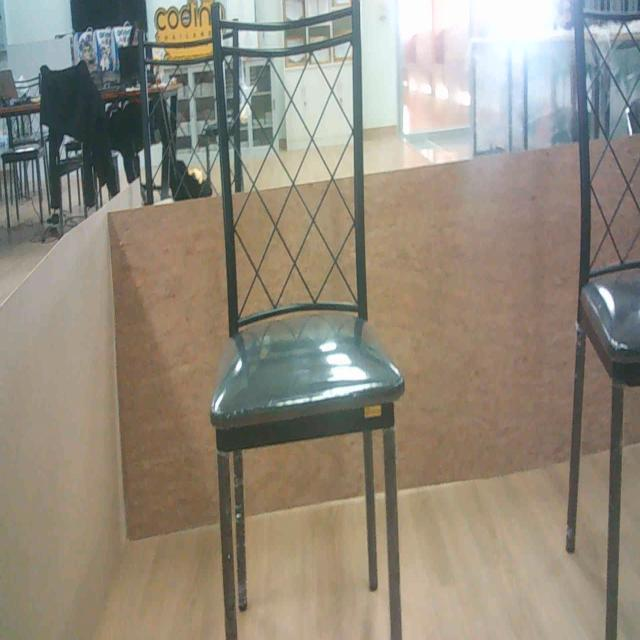emtpy: (188, 0, 416, 640)
